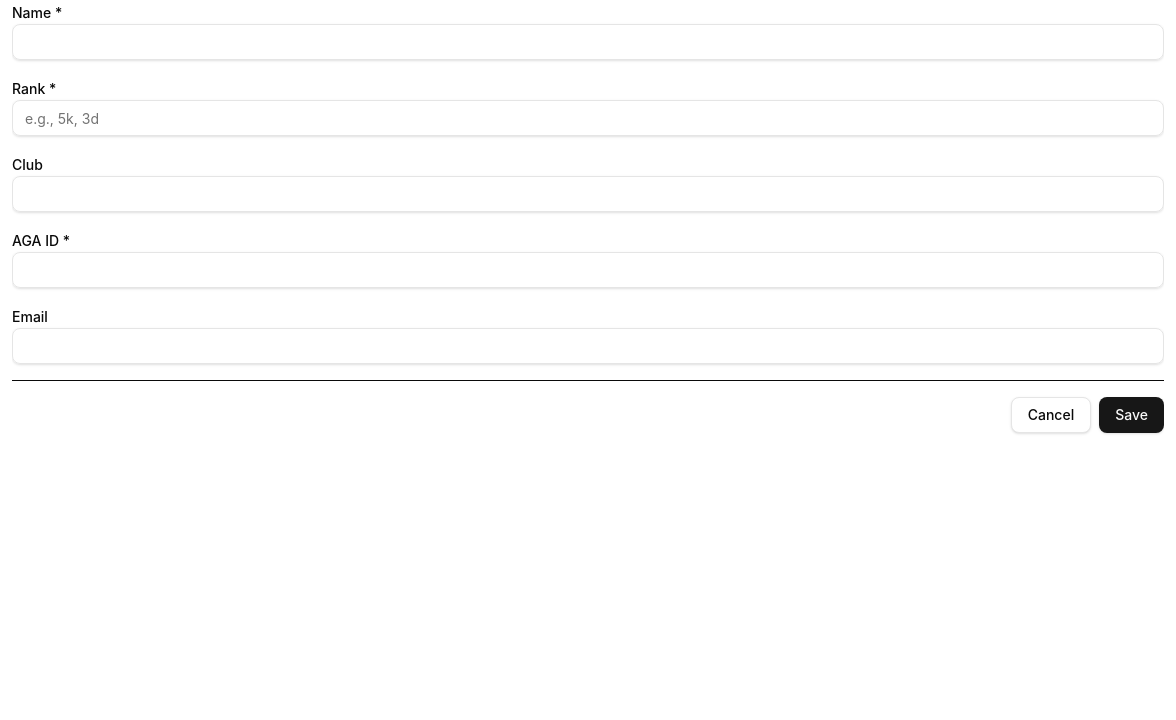
PlayerForm › validates required name
This screenshot has width=1176, height=720.
// Fill rank but not name
In the field labelled "Rank *": [588, 118] box [12, 100, 1164, 136], type "3d"
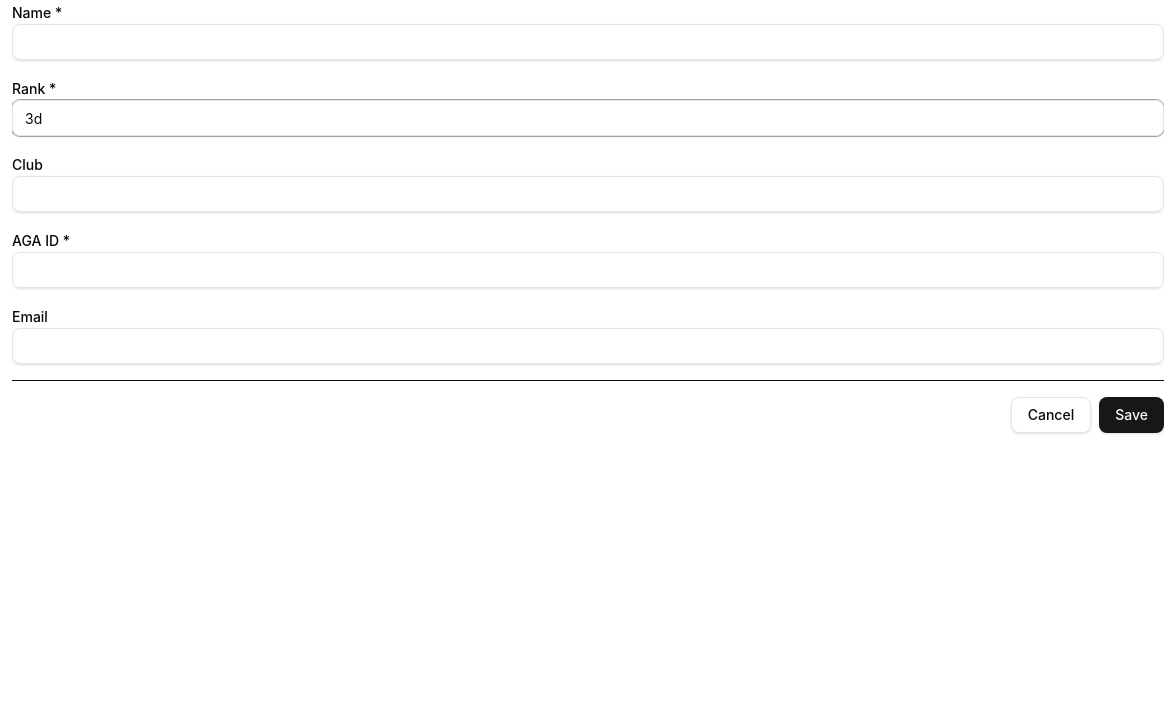
Click the button "Save": [1132, 415] box [1099, 397, 1164, 433]
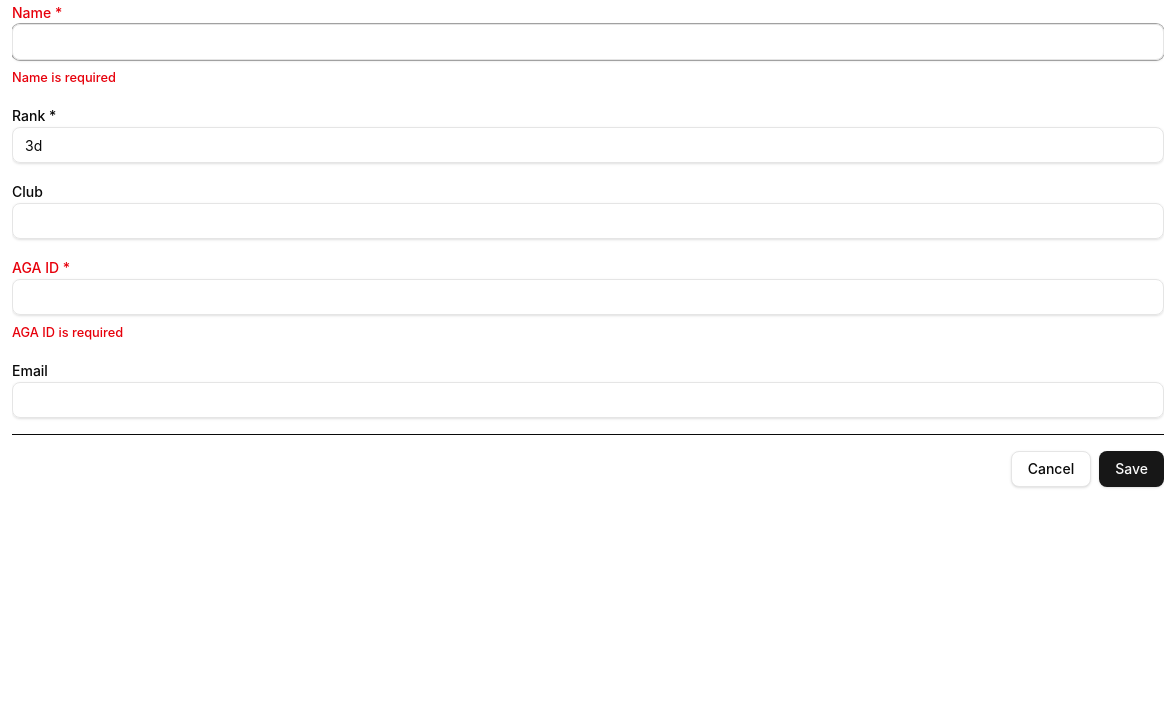
expect the text "Name is required" is shown: met, box [12, 70, 116, 85]
